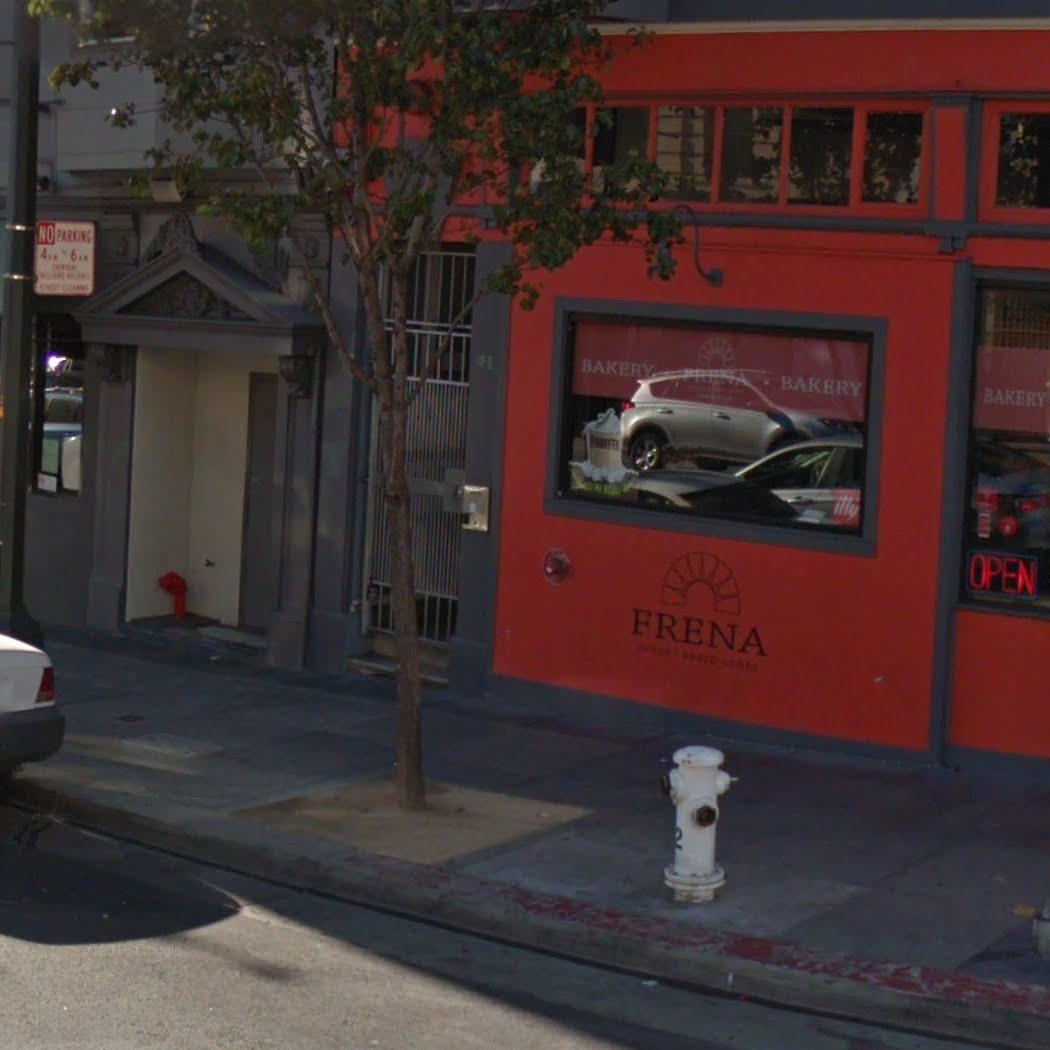No Parking: (31, 217, 97, 299)
